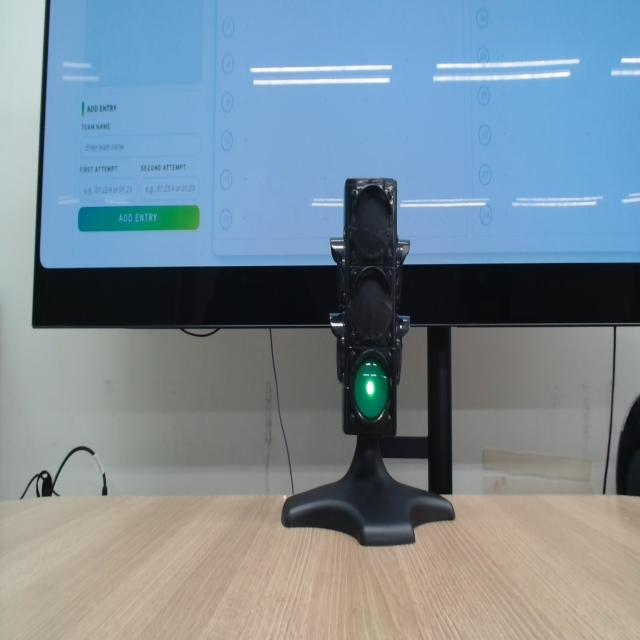green_light: (354, 358, 389, 420)
